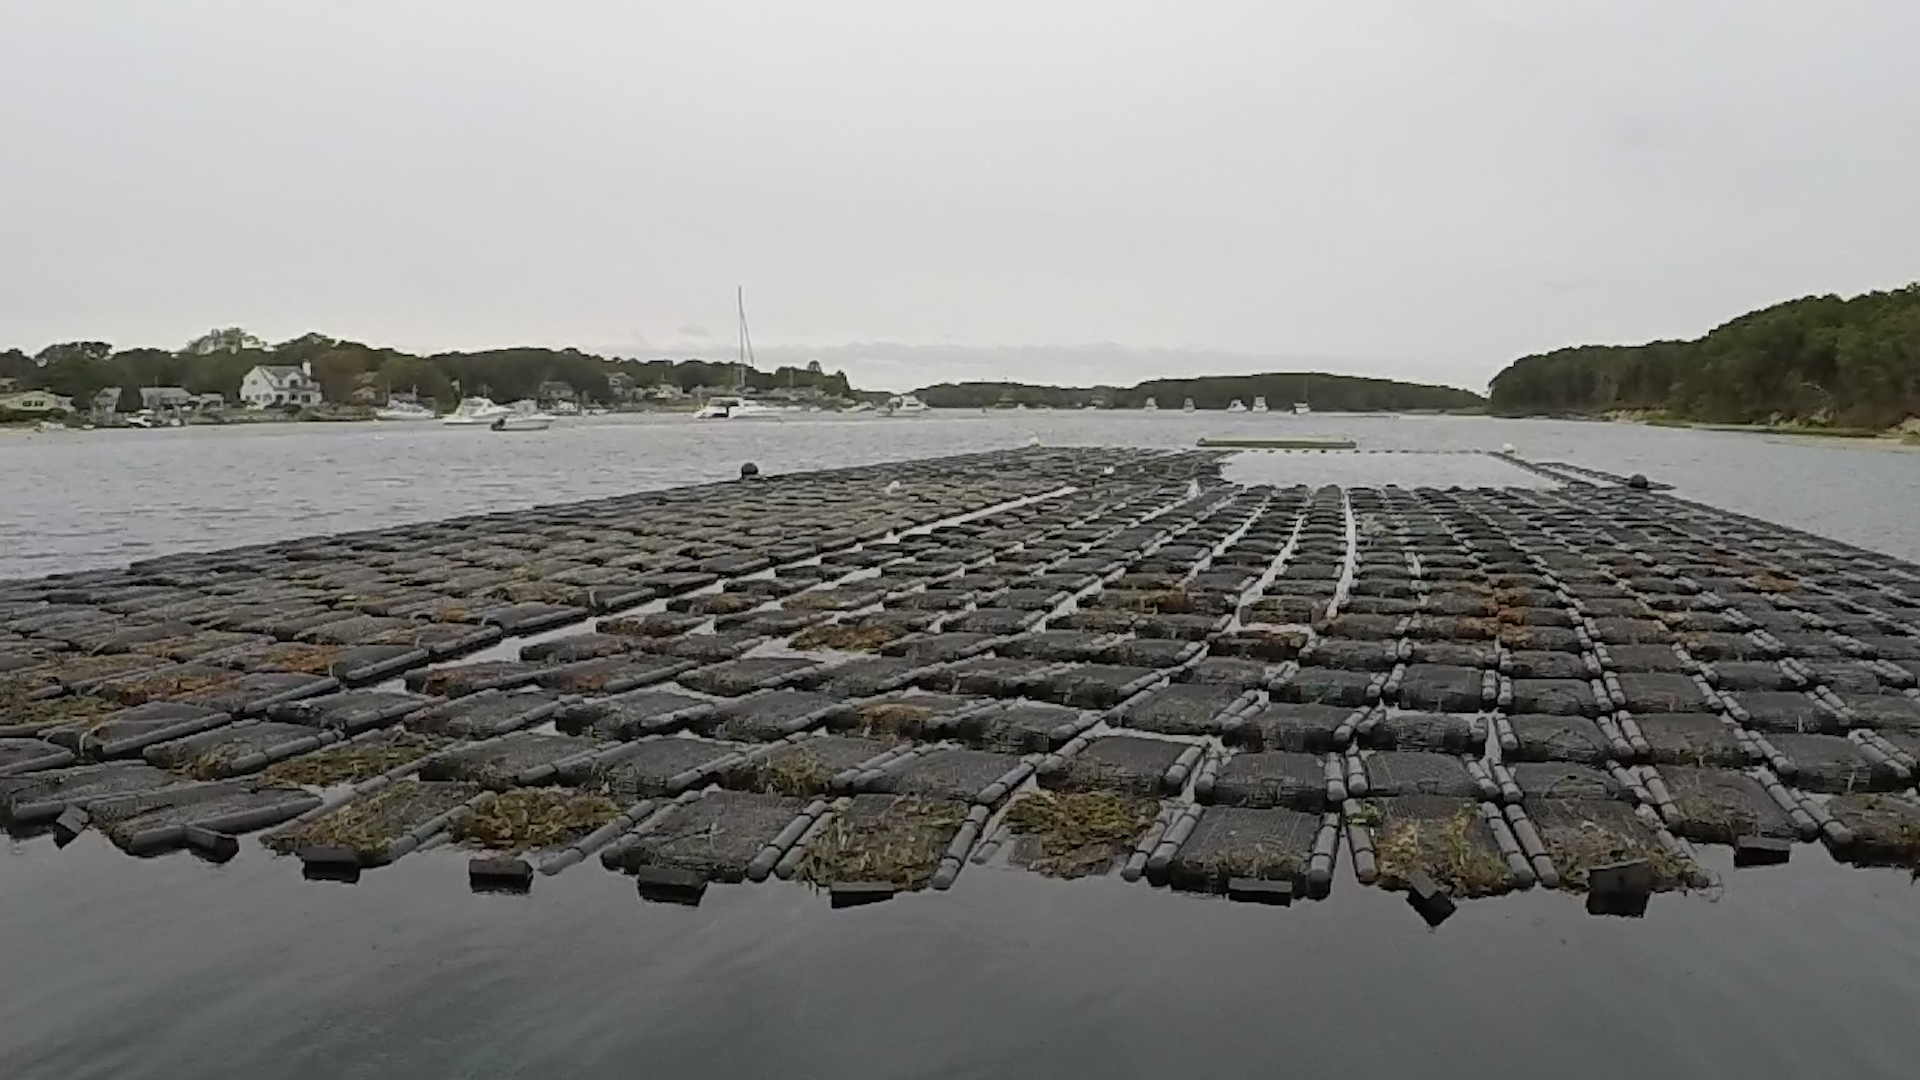bag: (767, 794, 992, 891), (971, 789, 1176, 889), (429, 783, 647, 876), (1147, 800, 1340, 902), (1513, 796, 1706, 897), (1342, 796, 1538, 894), (601, 793, 820, 876), (257, 773, 460, 860)
